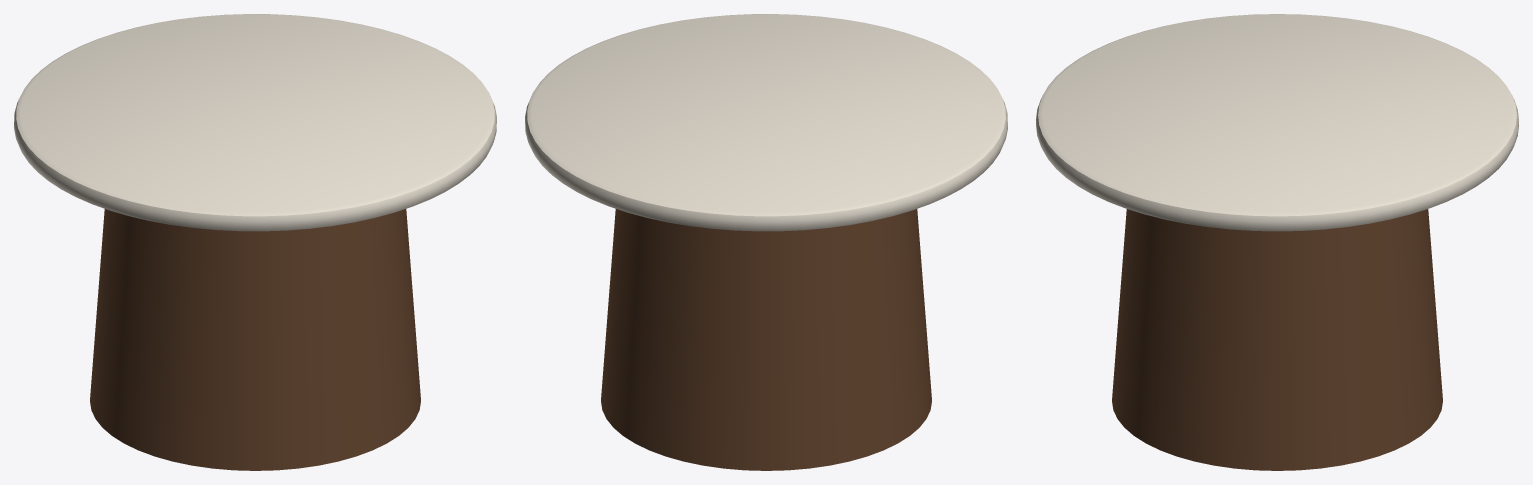
File: round_coffee.glb
The picture shows the model from 3 angles, left to right: view 1: azimuth 30°, elevation 25°; view 2: azimuth 150°, elevation 25°; view 3: azimuth 270°, elevation 25°; orthographic projection.
Visible parts, largest first — view 1: cyl, cyl.001; view 2: cyl, cyl.001; view 3: cyl, cyl.001.
Boxes of the visible parts, x1,y1,x2,y2 form: cyl: (14, 14, 496, 231); cyl.001: (90, 209, 420, 470); cyl: (525, 14, 1007, 231); cyl.001: (601, 209, 931, 470); cyl: (1036, 14, 1518, 231); cyl.001: (1112, 209, 1442, 470).
Size of the model in its own units: 70 by 46 by 70.
